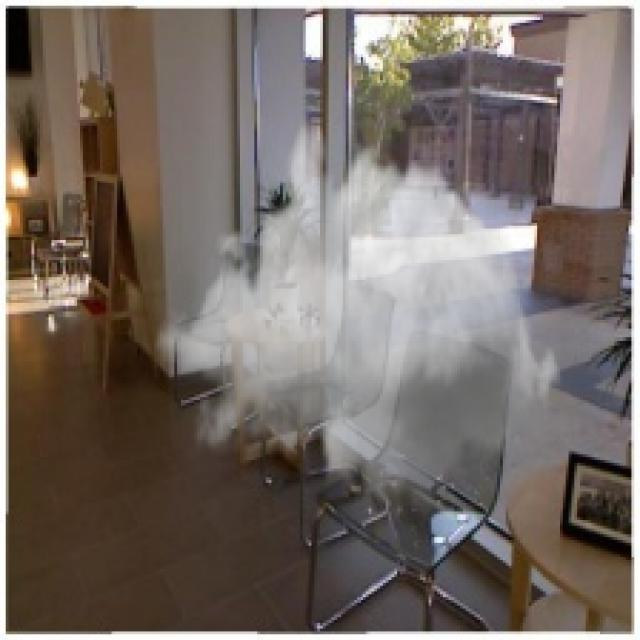smoke: (154, 114, 566, 526)
